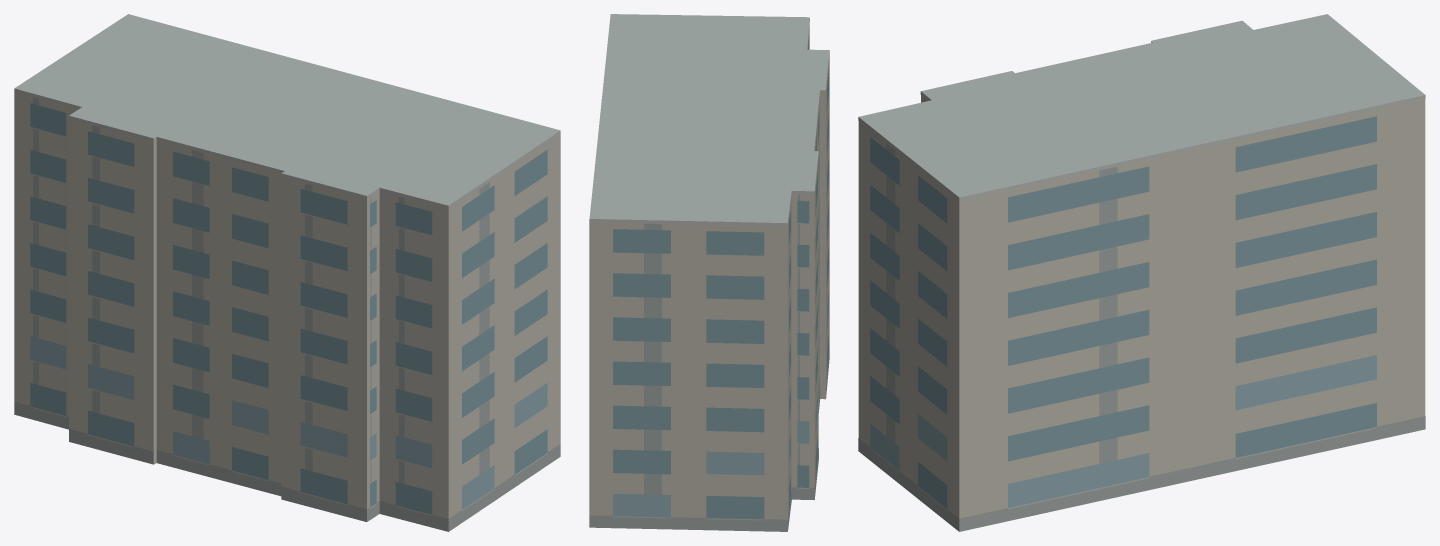
Rendered from survey-upis-32944641.glb.
3 views of the same model, side by side, from view 1: azimuth 30°, elevation 25°; view 2: azimuth 150°, elevation 25°; view 3: azimuth 270°, elevation 25° (orthographic). The views are drawn at different scales.
Visible parts, largest first — view 1: survey-upis-32944641.tmp; view 2: survey-upis-32944641.tmp; view 3: survey-upis-32944641.tmp.
Boxes of the visible parts, bbox=[...] form: survey-upis-32944641.tmp: bbox=[14, 14, 560, 531]; survey-upis-32944641.tmp: bbox=[589, 14, 829, 531]; survey-upis-32944641.tmp: bbox=[858, 14, 1425, 531].
Bounding box in the file's own units: 24.96 × 21.2 × 32.58.
